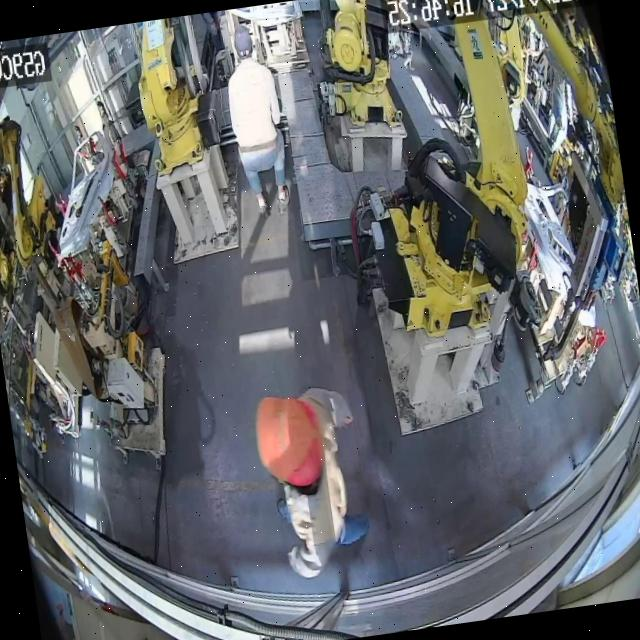Person: (250, 381, 376, 584), (218, 21, 296, 222)
